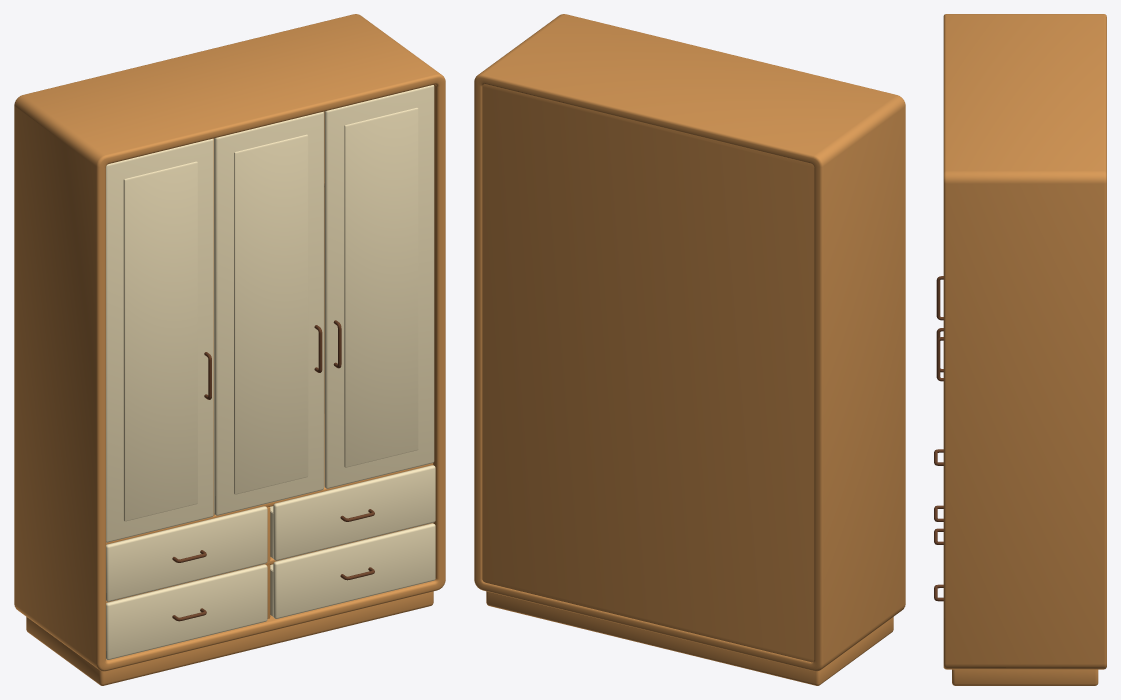
File: guarda_roupa_3portas_gavetas_mel.glb
3 views of the same model, side by side, from view 1: azimuth 30°, elevation 25°; view 2: azimuth 150°, elevation 25°; view 3: azimuth 270°, elevation 25° (orthographic). The views are drawn at different scales.
Parts seen in each view (by area): view 1: guarda_roupa_3portas_gavetas_mel, porta_3, porta_2, porta_1, gaveta_2, gaveta_4, gaveta_1, gaveta_3; view 2: guarda_roupa_3portas_gavetas_mel; view 3: guarda_roupa_3portas_gavetas_mel.
Part boxes in pixels (box(x1,y1,x2,y2)): guarda_roupa_3portas_gavetas_mel: box(14, 14, 445, 685); porta_3: box(324, 85, 434, 488); porta_2: box(214, 111, 323, 515); porta_1: box(106, 138, 213, 542); gaveta_2: box(270, 523, 435, 618); gaveta_4: box(270, 465, 435, 560); gaveta_1: box(106, 564, 267, 659); gaveta_3: box(106, 506, 267, 601); guarda_roupa_3portas_gavetas_mel: box(474, 14, 905, 685); guarda_roupa_3portas_gavetas_mel: box(943, 14, 1106, 685).
Size of the model in its own units: 1.38 by 2.02 by 0.6135.
1 material, 1 textured.
